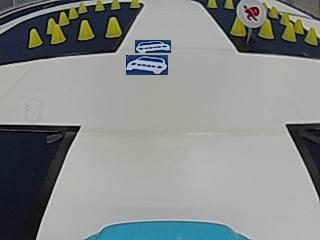thief: (236, 0, 267, 27)
